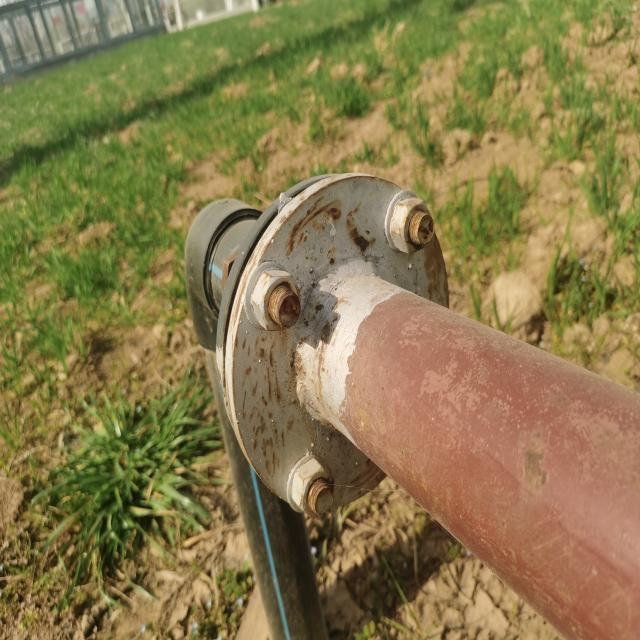bolt nut: (250, 267, 302, 332), (291, 457, 335, 518), (390, 197, 434, 254)
